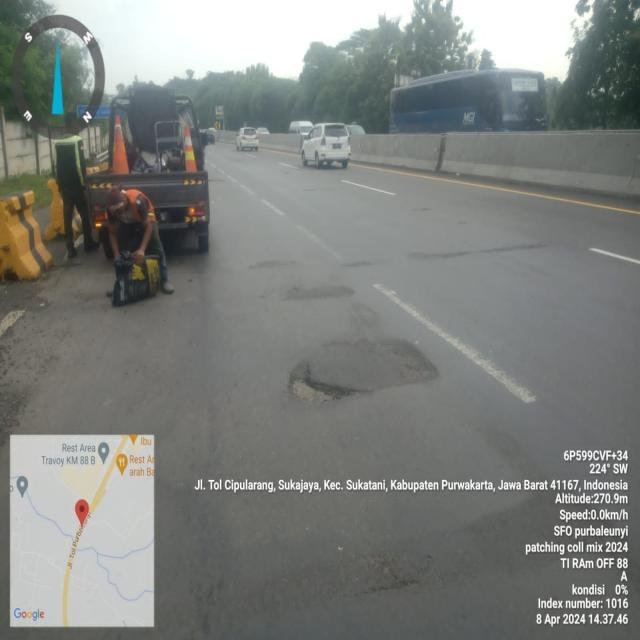Buraco: (284, 360, 364, 405)
